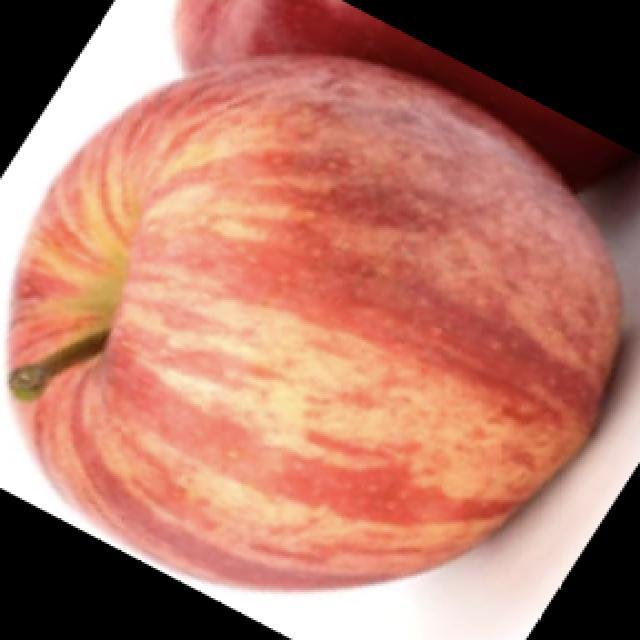Apple: (7, 51, 623, 591)
